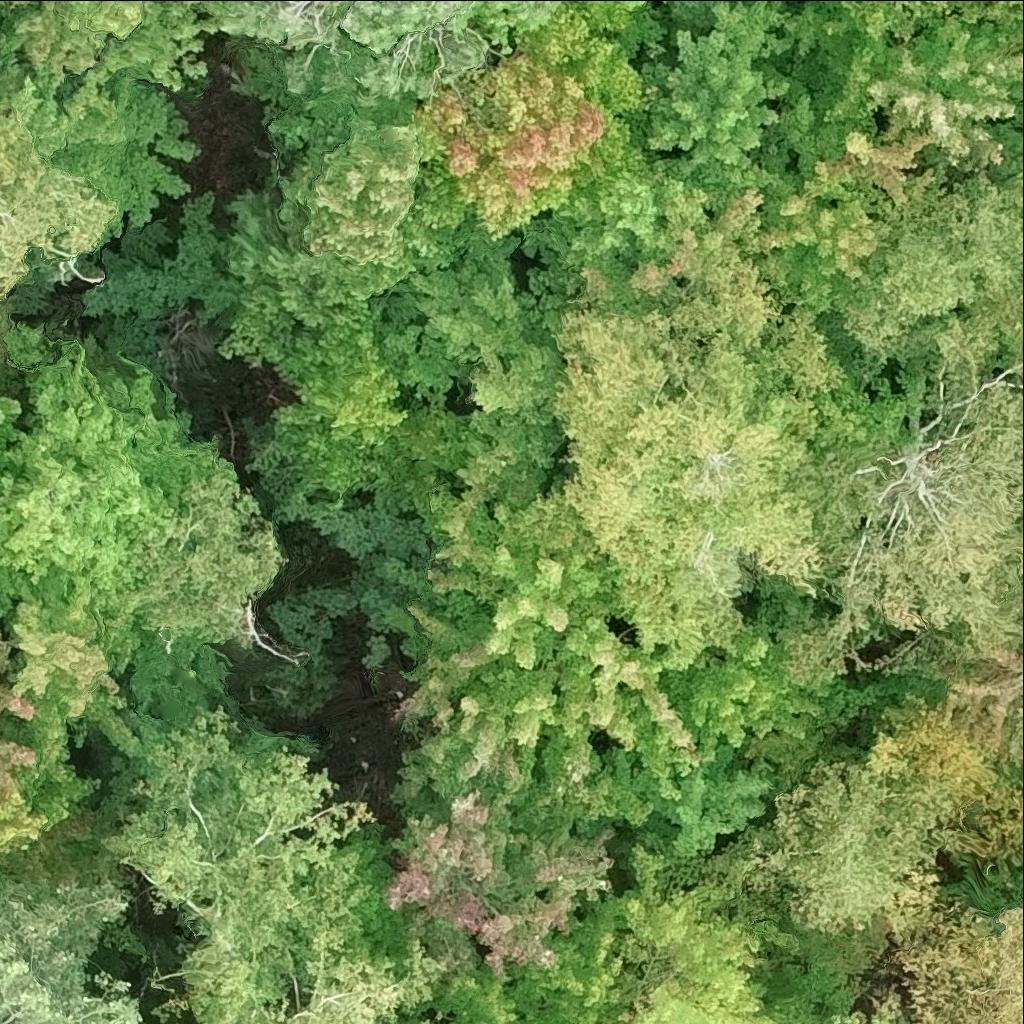crown: (507, 272, 863, 673), (383, 493, 698, 843), (105, 707, 443, 1023), (827, 294, 1023, 662), (0, 332, 219, 628), (516, 157, 897, 322), (407, 7, 642, 239), (777, 17, 1023, 220), (375, 792, 620, 974), (733, 744, 951, 942), (626, 0, 798, 186), (606, 843, 778, 1023), (0, 602, 138, 817), (214, 0, 481, 105), (442, 891, 635, 1023), (0, 98, 116, 301), (271, 325, 408, 495), (658, 628, 827, 763), (279, 107, 420, 265), (0, 881, 140, 1023), (7, 0, 225, 90), (892, 905, 1023, 1023), (0, 786, 125, 892), (938, 646, 1023, 764), (827, 0, 972, 46), (494, 0, 556, 32), (0, 395, 21, 464), (871, 987, 899, 1023), (857, 1014, 869, 1023)
